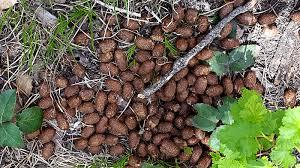Elk: (75, 40, 233, 162)
